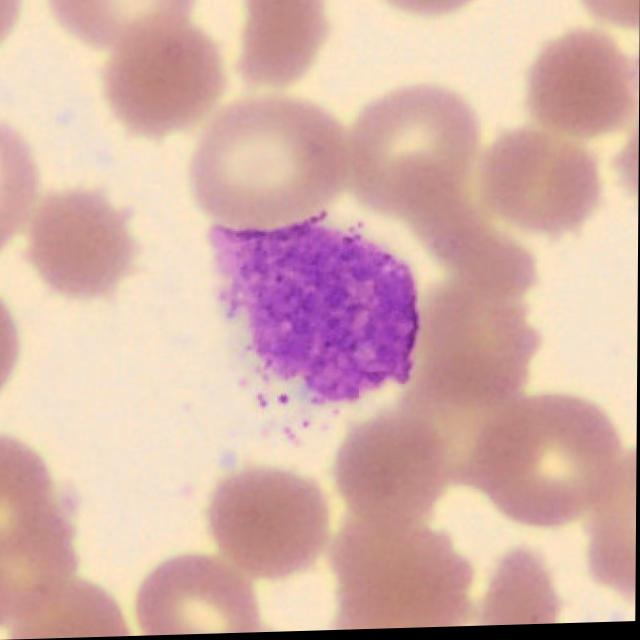Linfocito: (208, 211, 421, 444)
